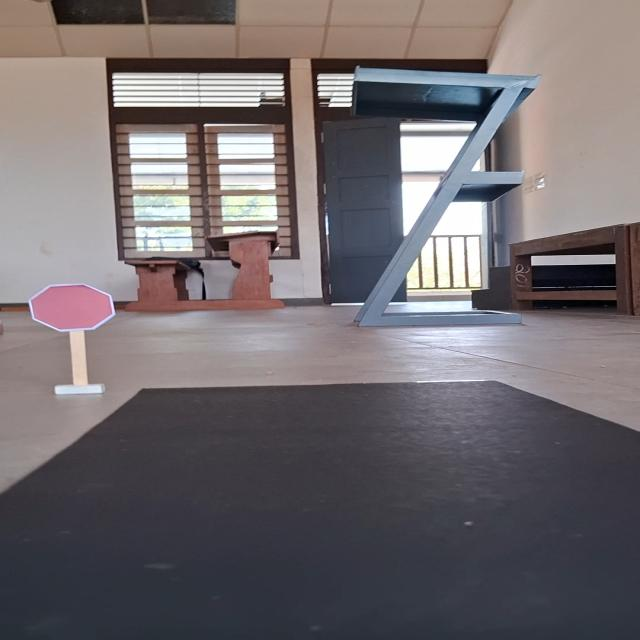Stop: (24, 282, 118, 334)
